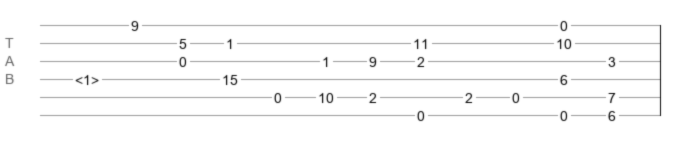0: (179, 54, 187, 64), (274, 90, 282, 100), (417, 108, 425, 118), (512, 90, 520, 100), (560, 108, 568, 118), (560, 18, 568, 28)
1: (226, 36, 234, 46), (322, 54, 330, 64)
10: (318, 90, 334, 100), (556, 36, 572, 46)
11: (413, 36, 429, 46)
15: (222, 72, 238, 82)
2: (369, 90, 377, 100), (417, 54, 425, 64), (465, 90, 473, 100)
3: (608, 54, 616, 64)
5: (179, 36, 187, 46)
6: (560, 72, 568, 82), (608, 108, 616, 118)
7: (608, 90, 616, 100)
9: (131, 18, 139, 28), (369, 54, 377, 64)
harmonic: (75, 72, 99, 82)
